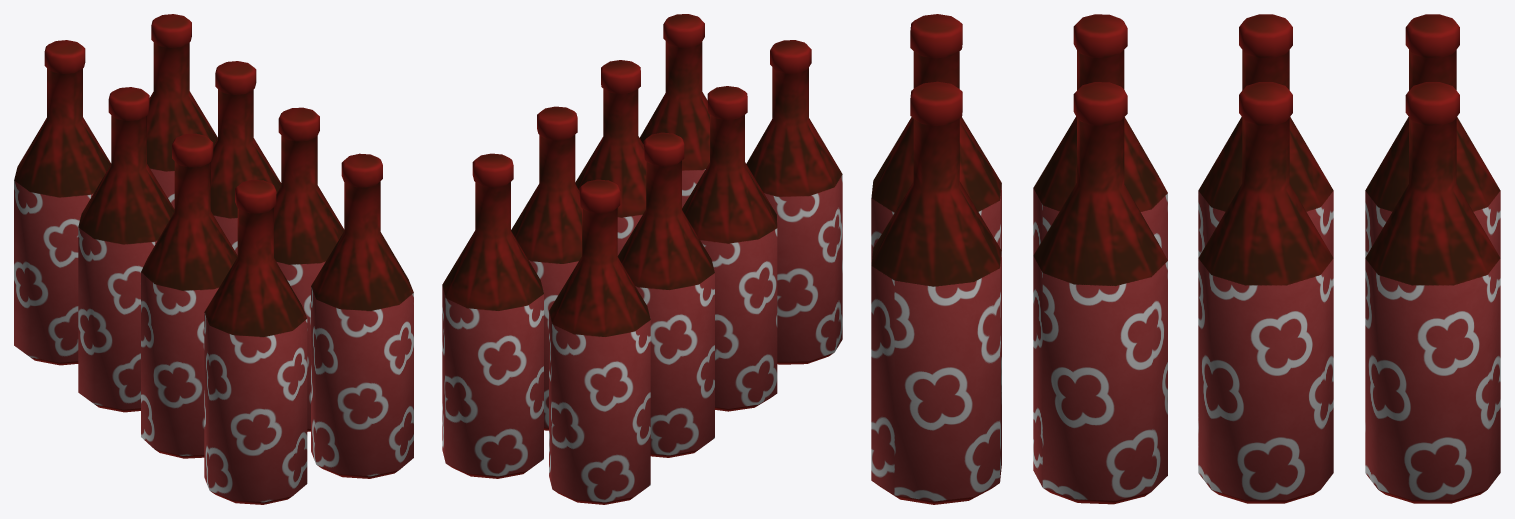
The model's file is soySauce_V3_Large.fbx.
3 renders of one model, left to right at view 1: azimuth 30°, elevation 25°; view 2: azimuth 150°, elevation 25°; view 3: azimuth 270°, elevation 25°, orthographic. The views are drawn at different scales.
Parts seen in each view (by area): view 1: soySauceV3; view 2: soySauceV3; view 3: soySauceV3.
Part boxes in pixels (x1,y1,x2,y2): soySauceV3: [14, 14, 413, 504]; soySauceV3: [442, 14, 842, 504]; soySauceV3: [871, 14, 1500, 504].
Bounding box in the file's own units: 437 × 634 × 930.
1 material, 1 textured.
